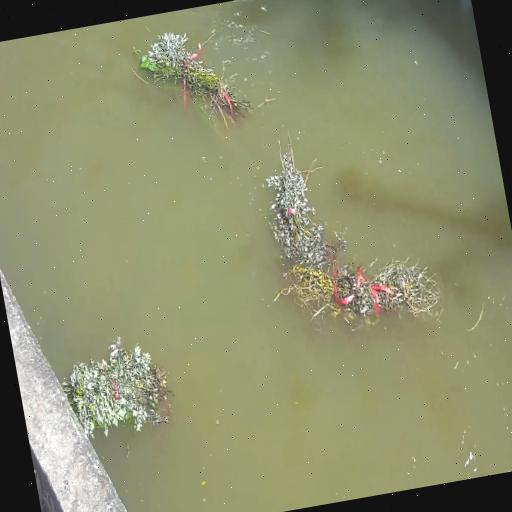twig: (280, 242, 442, 341), (56, 325, 180, 452), (134, 17, 256, 142), (255, 131, 342, 277)
